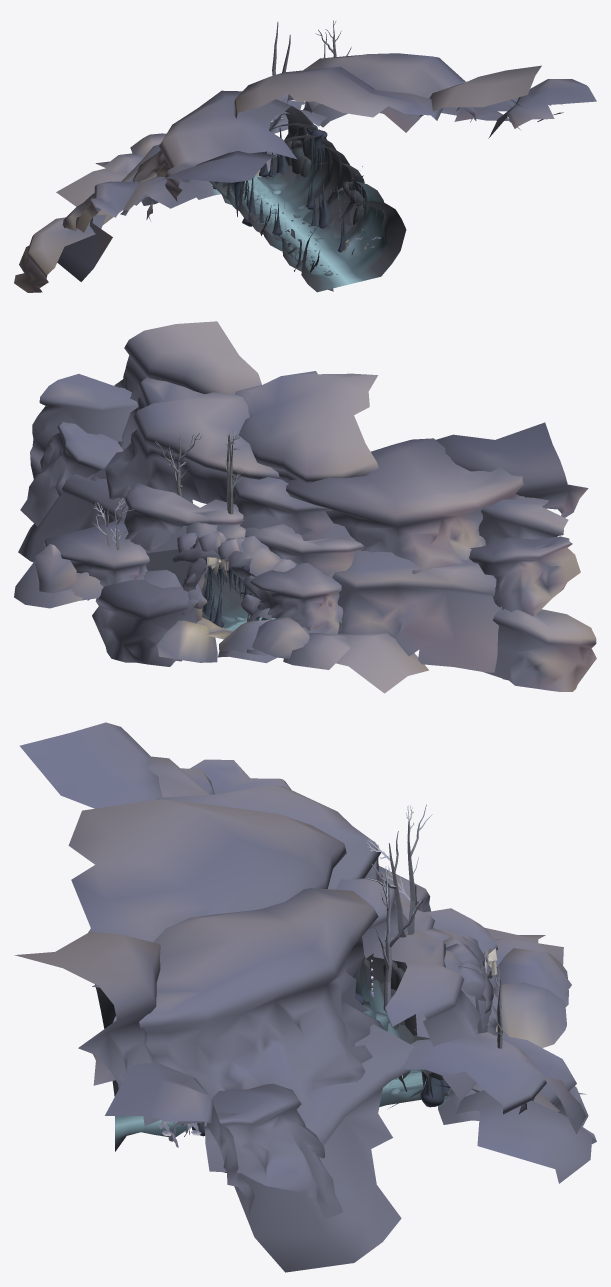
Rendered from Arctic_Tunnels_Entrance_A.glb.
3 views of the same model, one above another, from view 1: azimuth 30°, elevation 25°; view 2: azimuth 150°, elevation 25°; view 3: azimuth 270°, elevation 25° (orthographic). The views are drawn at different scales.
Parts seen in each view (by area): view 1: Arctic_Tunnels_Entrance_A, Arctic_Tunnels_Entrance_A_Reflection; view 2: Arctic_Tunnels_Entrance_A, Arctic_Tunnels_Entrance_A_Reflection, Arctic_Birch_F_trunk (3); view 3: Arctic_Tunnels_Entrance_A, Arctic_Tunnels_Entrance_A_Reflection, Arctic_Birch_F_trunk (3).
Part boxes in pixels (x1,y1,x2,y2): Arctic_Tunnels_Entrance_A: [14, 53, 596, 292]; Arctic_Tunnels_Entrance_A_Reflection: [209, 106, 406, 292]; Arctic_Tunnels_Entrance_A: [14, 321, 596, 693]; Arctic_Tunnels_Entrance_A_Reflection: [201, 568, 275, 628]; Arctic_Birch_F_trunk (3): [226, 430, 243, 514]; Arctic_Tunnels_Entrance_A: [14, 722, 596, 1272]; Arctic_Tunnels_Entrance_A_Reflection: [95, 953, 479, 1151]; Arctic_Birch_F_trunk (3): [366, 805, 415, 937].
Bounding box in the file's own units: 51.97 × 19.74 × 30.51.
